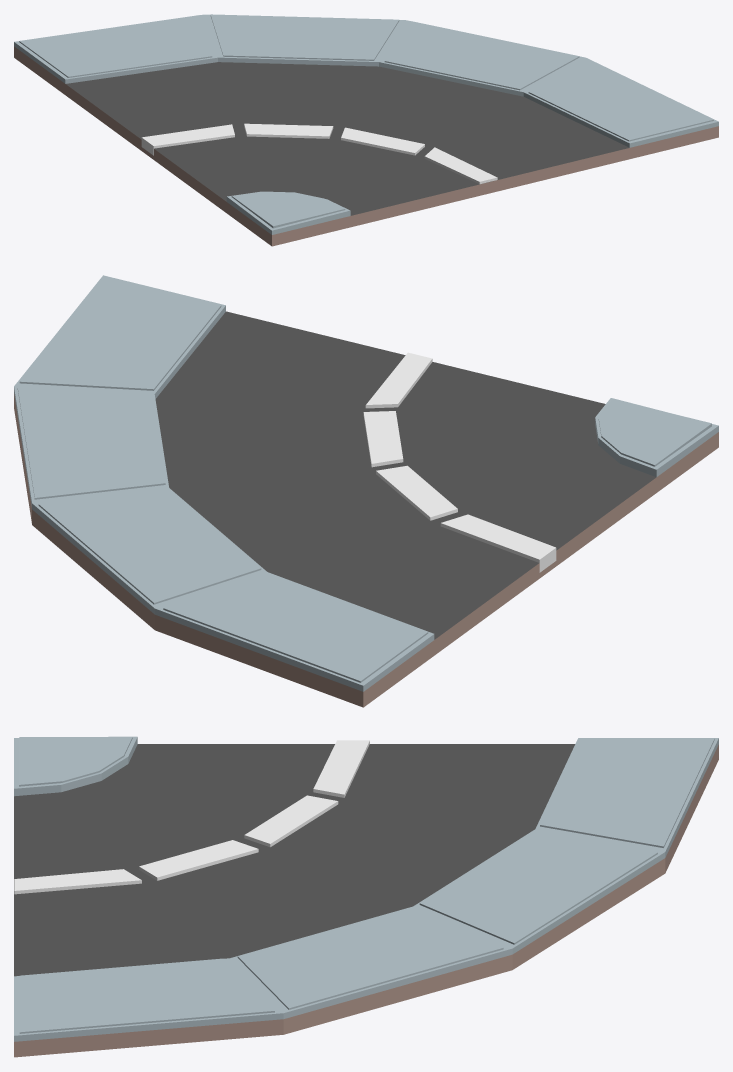
File: Road_Curved_01.gltf
The picture shows the model from 3 angles, top to bottom: view 1: azimuth 30°, elevation 25°; view 2: azimuth 150°, elevation 25°; view 3: azimuth 270°, elevation 25°; orthographic projection. The views are drawn at different scales.
Visible parts, largest first — view 1: node-0; view 2: node-0; view 3: node-0.
Boxes of the visible parts, bbox=[...] form: node-0: bbox=[14, 14, 718, 246]; node-0: bbox=[14, 275, 718, 707]; node-0: bbox=[14, 736, 718, 1057].
Bounding box in the file's own units: 20.01 × 0.7734 × 20.
